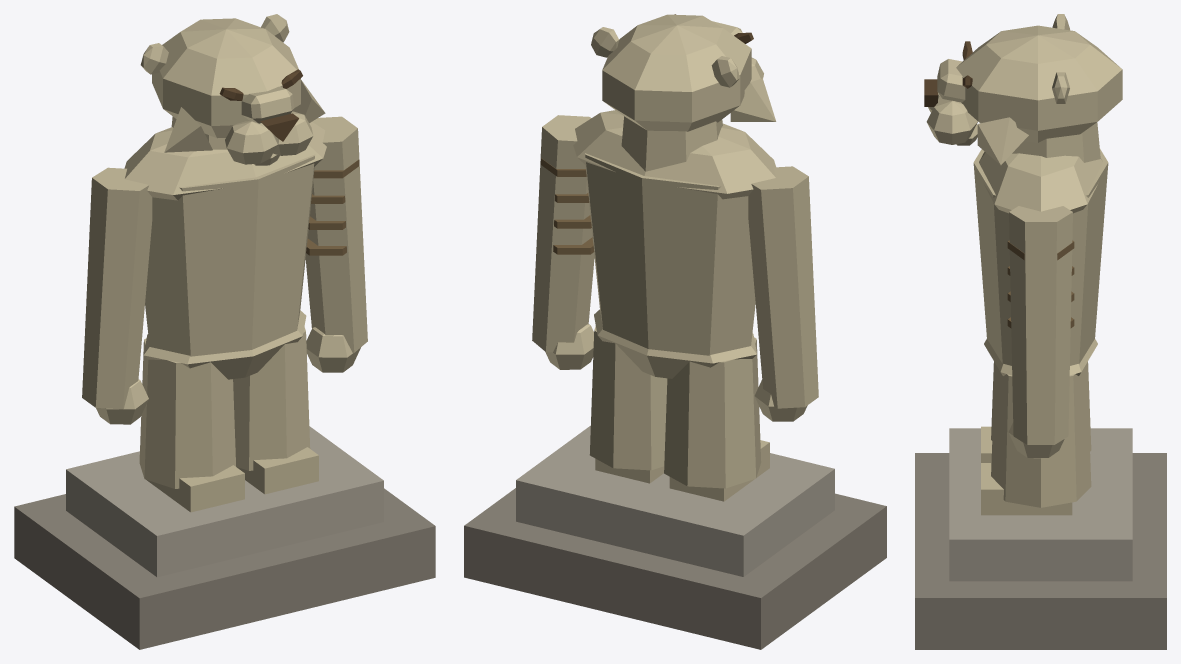
File: lionman.glb
3 views of the same model, side by side, from view 1: azimuth 30°, elevation 25°; view 2: azimuth 150°, elevation 25°; view 3: azimuth 270°, elevation 25° (orthographic).
Visible parts, largest first — view 1: lionman; view 2: lionman; view 3: lionman.
Part boxes in pixels (x1=…): lionman: x1=14, y1=14, x2=435, y2=649; lionman: x1=464, y1=14, x2=886, y2=649; lionman: x1=915, y1=14, x2=1166, y2=649.
Size of the model in its own units: 0.6 by 1.04 by 0.44.
